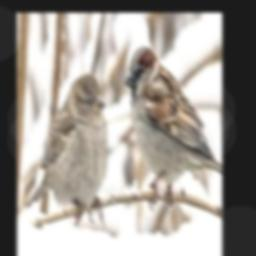Sparrow: (125, 46, 222, 211), (26, 73, 108, 229)
